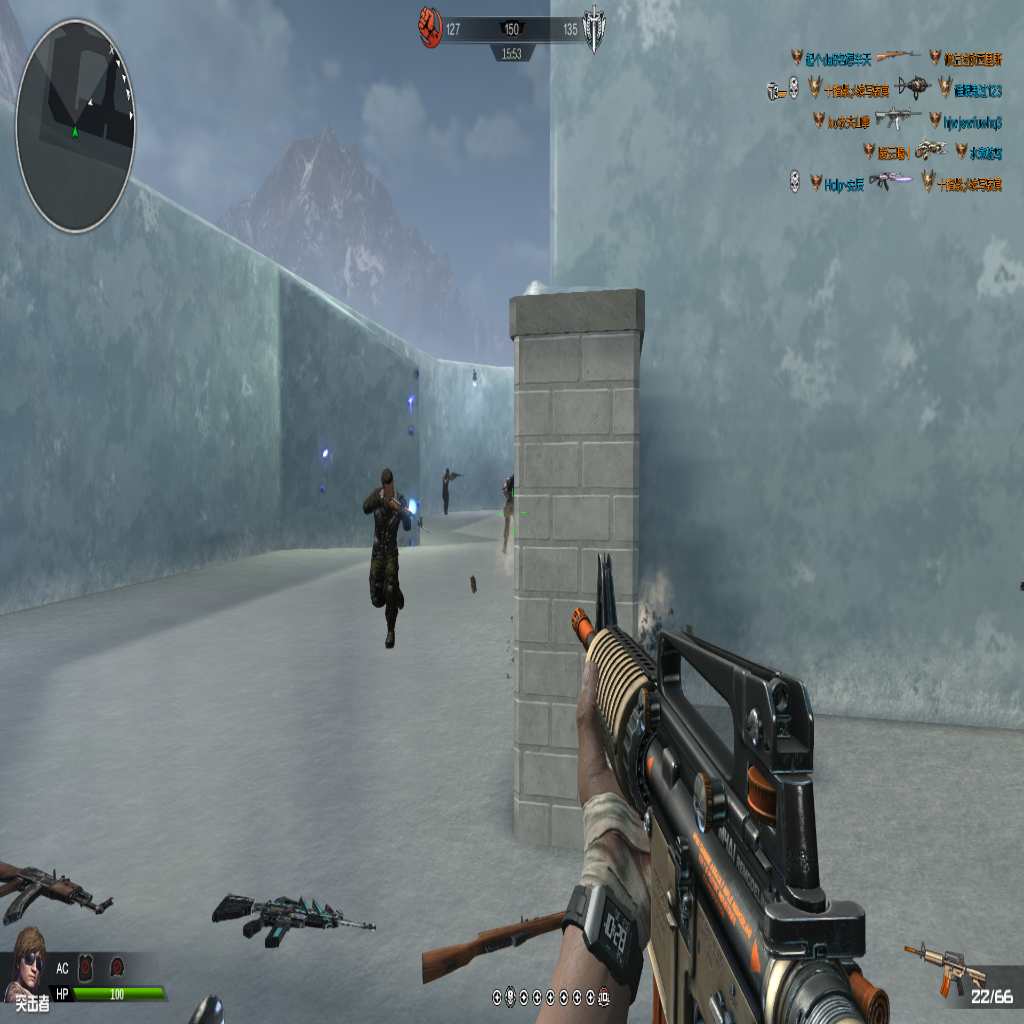ct: (364, 463, 412, 653), (500, 474, 514, 556), (442, 466, 452, 516)
